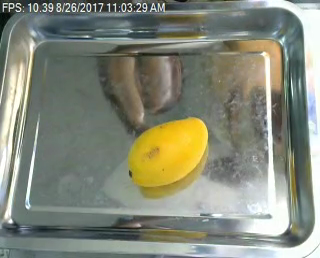Mango: (126, 110, 209, 186)
